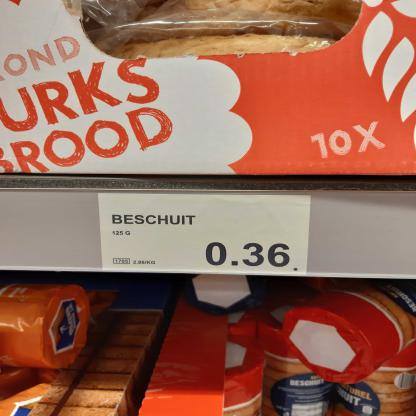prtg: (98, 195, 311, 276)
